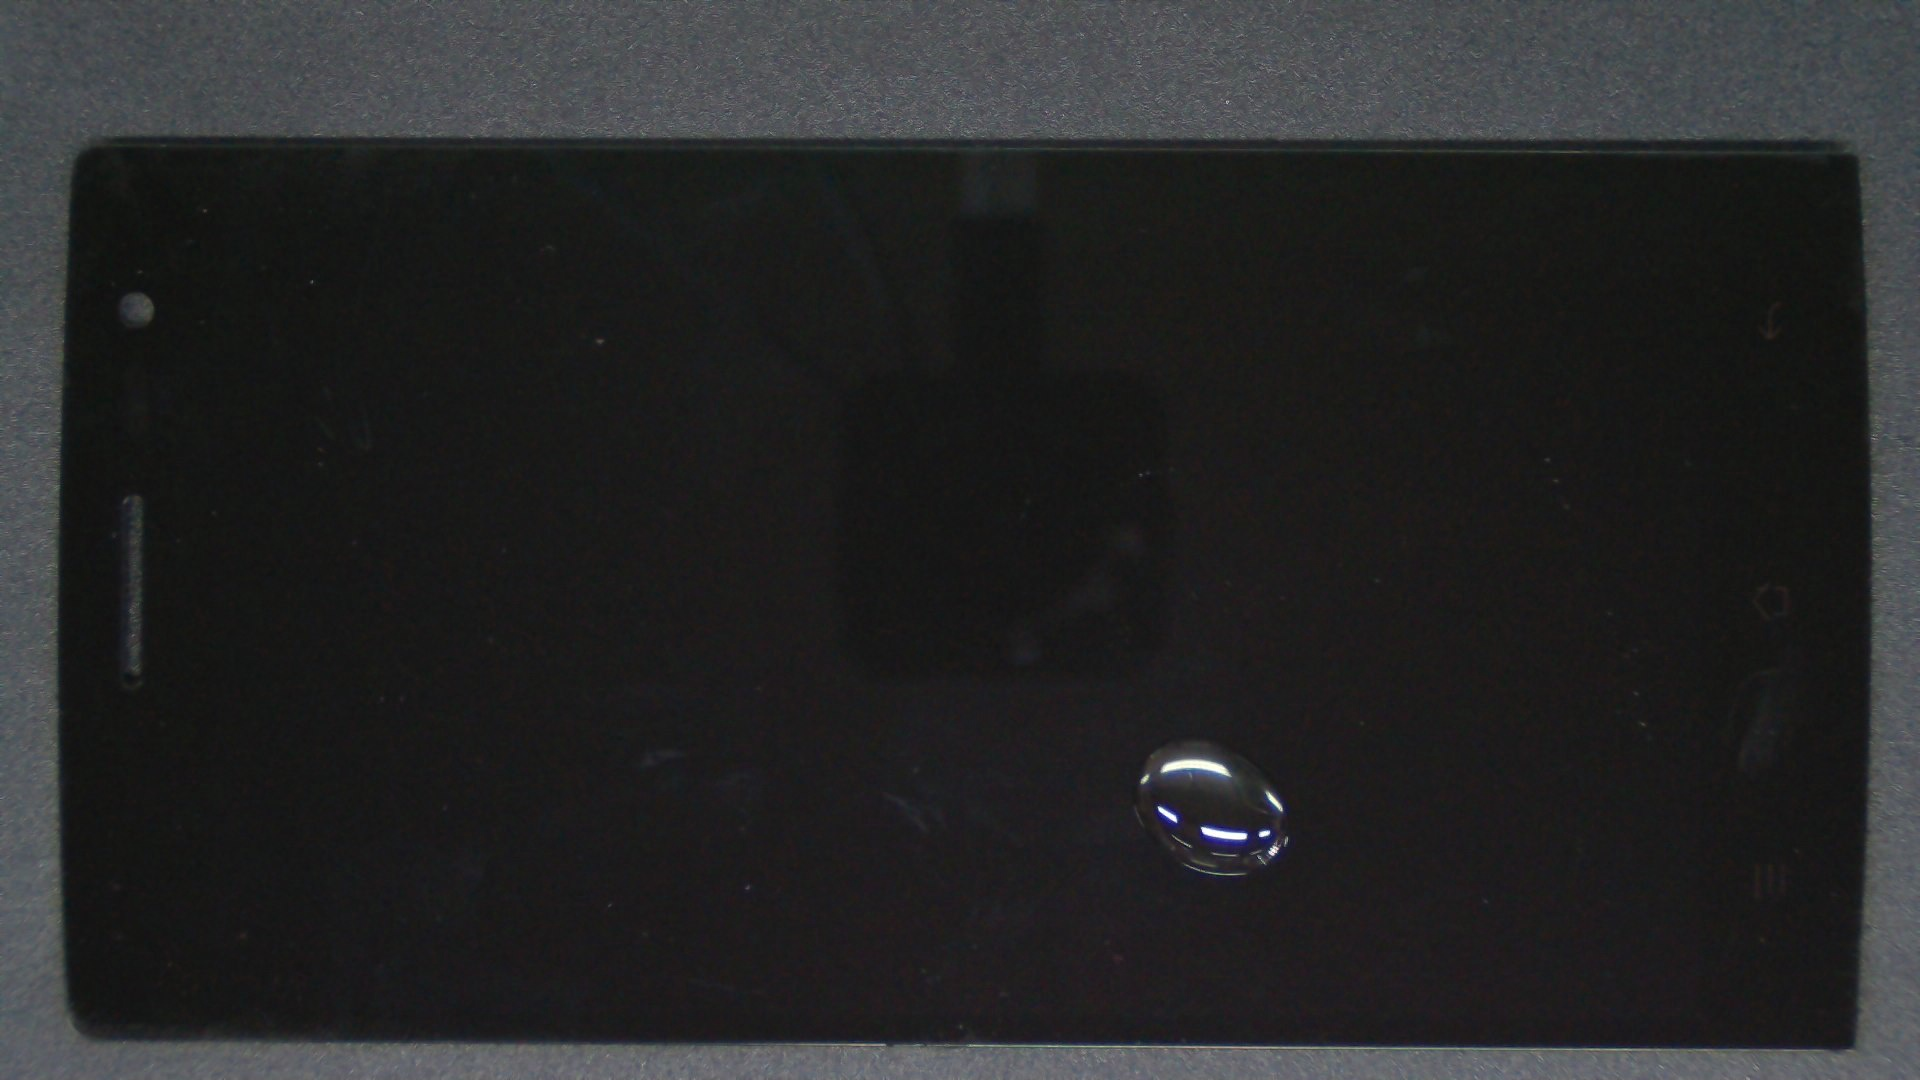oil: (592, 369, 1774, 1080)
